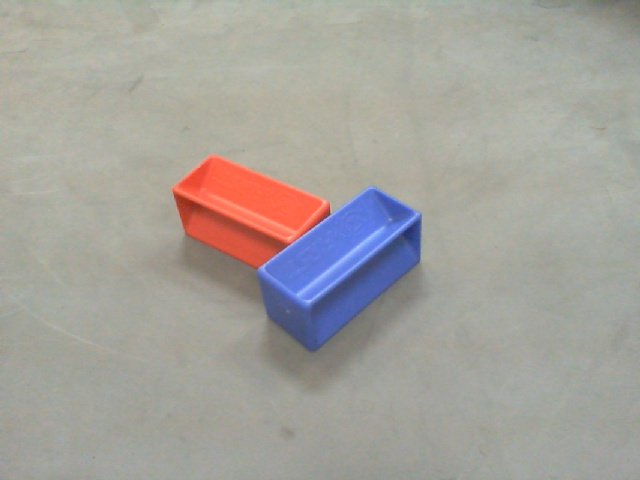BlueSample: (257, 184, 433, 352)
RedSample: (169, 149, 337, 278)
